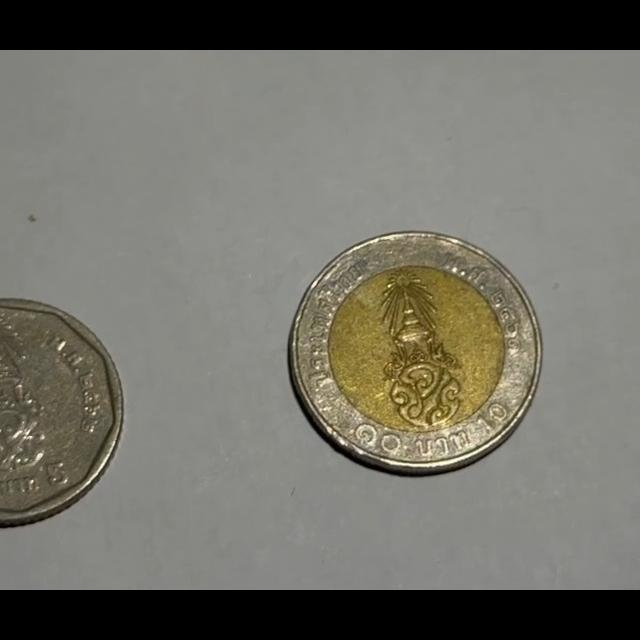10-baht: (288, 232, 539, 474)
5-baht: (0, 297, 122, 525)
